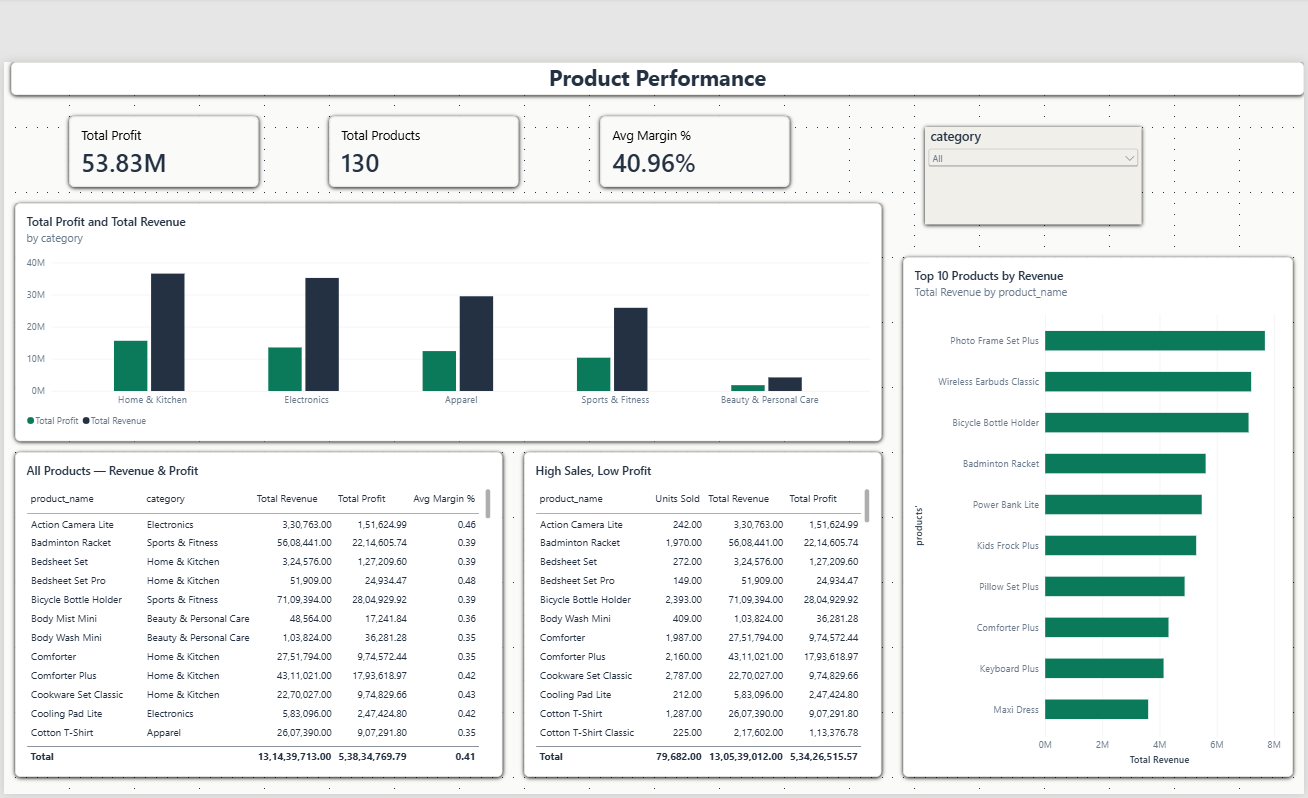

The page's visual inventory and layout, read from the dashboard file:
{"tool":"powerbi","page":{"name":"product Performance","canvas":[1920,1080],"ordinal":4},"visuals":[{"type":"textbox","box":[10.3,0,1909.7,48.7],"z":0},{"type":"cardVisual","fields":{"Data":["_Measure.Total Profit"]},"box":[96,80,280.4,105.1],"z":1},{"type":"cardVisual","fields":{"Data":["_Measure.Avg Margin %"]},"box":[880,80,280.4,105.1],"z":2},{"type":"cardVisual","fields":{"Data":["_Measure.Total Products"]},"box":[480,80,280.4,105.1],"z":3},{"type":"clusteredColumnChart","fields":{"Y":["_Measure.Total Profit","_Measure.Total Revenue"],"Category":["products_clean.category"]},"box":[16,208,1280,352],"z":4},{"type":"tableEx","title":"All Products — Revenue & Profit","fields":{"Values":["products_clean.product_name","products_clean.category","_Measure.Total Revenue","_Measure.Total Profit","_Measure.Avg Margin %"]},"box":[16,576,720,480],"z":5},{"type":"slicer","fields":{"Values":["products_clean.category"]},"box":[1360,96,320,144],"z":6},{"type":"clusteredBarChart","title":"Top 10 Products by Revenue","fields":{"Category":["products_clean.product_name"],"Y":["_Measure.Total Revenue"]},"box":[1328,288,576,768],"z":7},{"type":"tableEx","title":"High Sales, Low Profit","fields":{"Values":["products_clean.product_name","_Measure.Units Sold","_Measure.Total Revenue","_Measure.Total Profit"]},"box":[768,576,528,480],"z":8}]}

Visuals, with their boxes on the page's 1920x1080 design canvas (x1, y1, x2, y2). These are canvas units, not pixel positions in the 1308x798 screenshot, which may show the page scaled, cropped or inside an application window:
textbox: bbox(10, 0, 1920, 49)
cardVisual - _Measure.Total Profit: bbox(96, 80, 376, 185)
cardVisual - _Measure.Avg Margin %: bbox(880, 80, 1160, 185)
cardVisual - _Measure.Total Products: bbox(480, 80, 760, 185)
clusteredColumnChart - _Measure.Total Profit x _Measure.Total Revenue: bbox(16, 208, 1296, 560)
"All Products — Revenue & Profit" tableEx: bbox(16, 576, 736, 1056)
slicer - products_clean.category: bbox(1360, 96, 1680, 240)
"Top 10 Products by Revenue" clusteredBarChart: bbox(1328, 288, 1904, 1056)
"High Sales, Low Profit" tableEx: bbox(768, 576, 1296, 1056)
